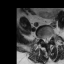CCS_normal: (45, 36, 48, 45)
LFS_normal: (50, 33, 52, 41)
LLS_normal: (48, 35, 50, 44)
RFS_normal: (40, 35, 43, 42)
RLS_normal: (43, 36, 45, 44)
